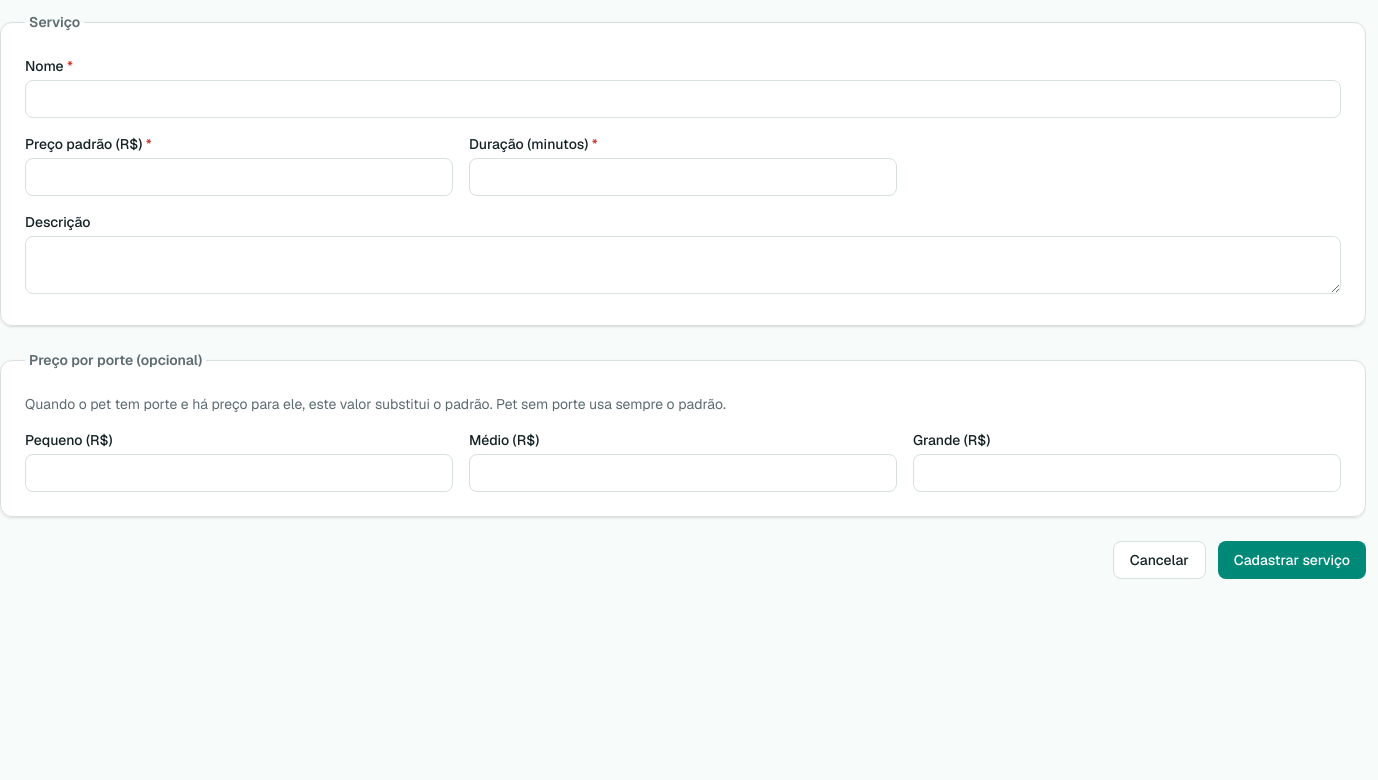
Scenario: ServicoForm › validaDuracao
Step 1. Type "Tosa Higiênica" into the field labelled "Nome *" → (683, 99), box [25, 80, 1341, 118]
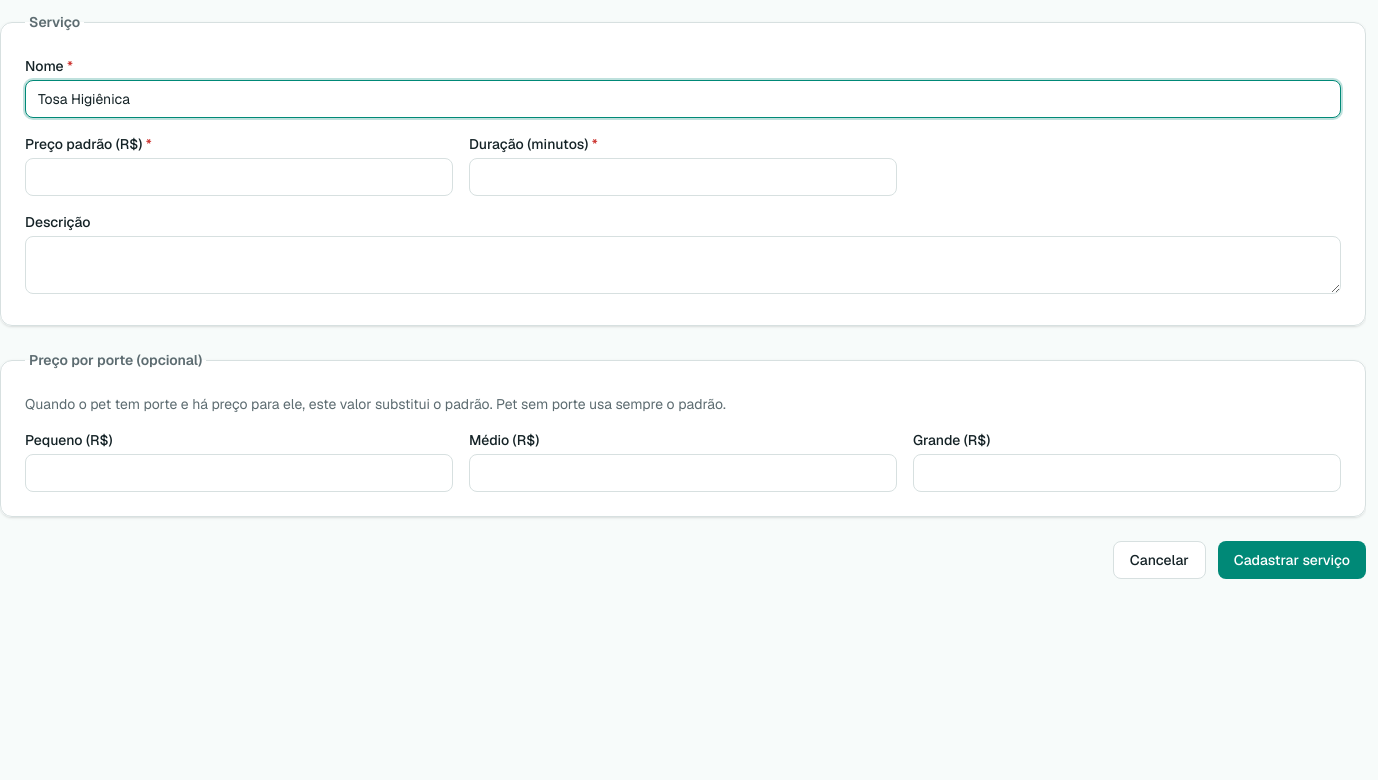
Step 2. Type "50" into the field labelled "Preço padrão (R$) *" → (239, 177), box [25, 158, 453, 196]
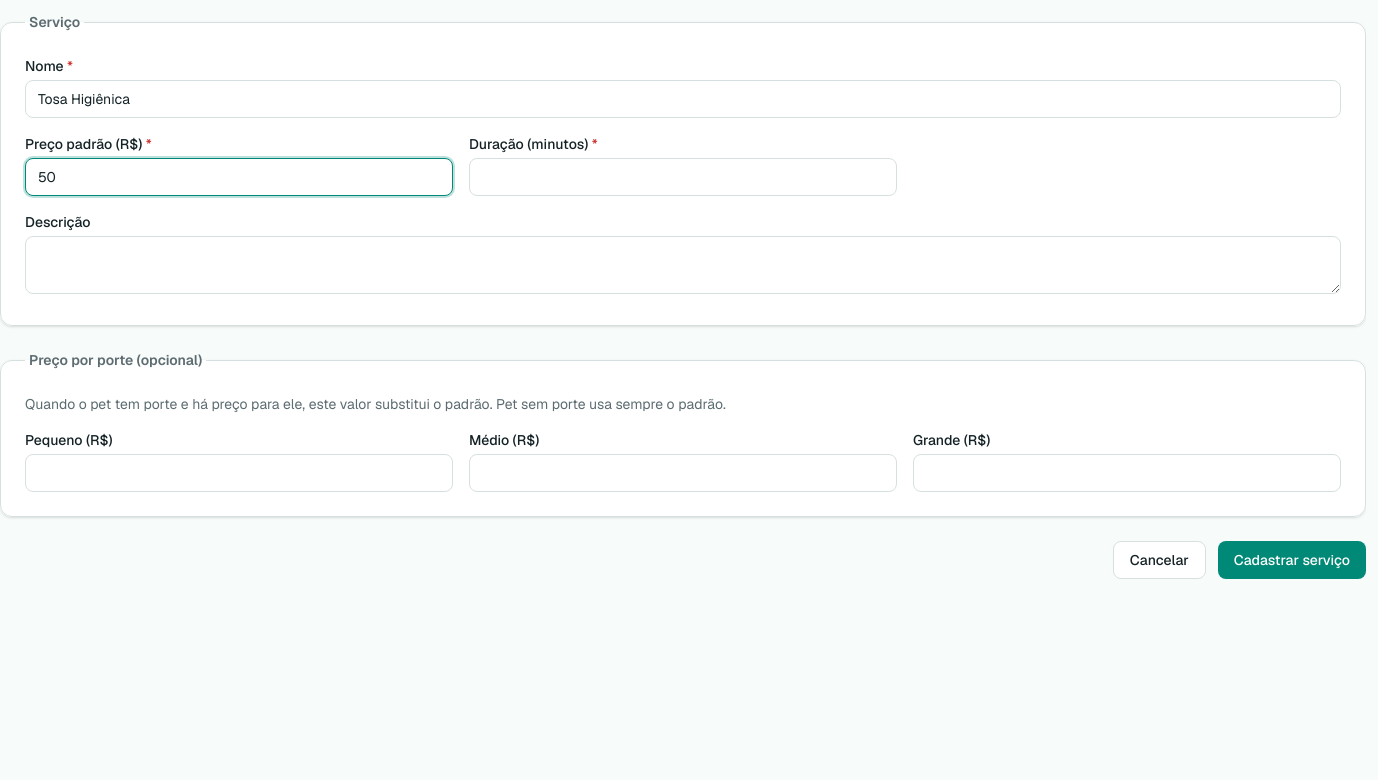
Step 3. Type "2" into the field labelled "Duração (minutos) *" → (683, 177), box [469, 158, 897, 196]
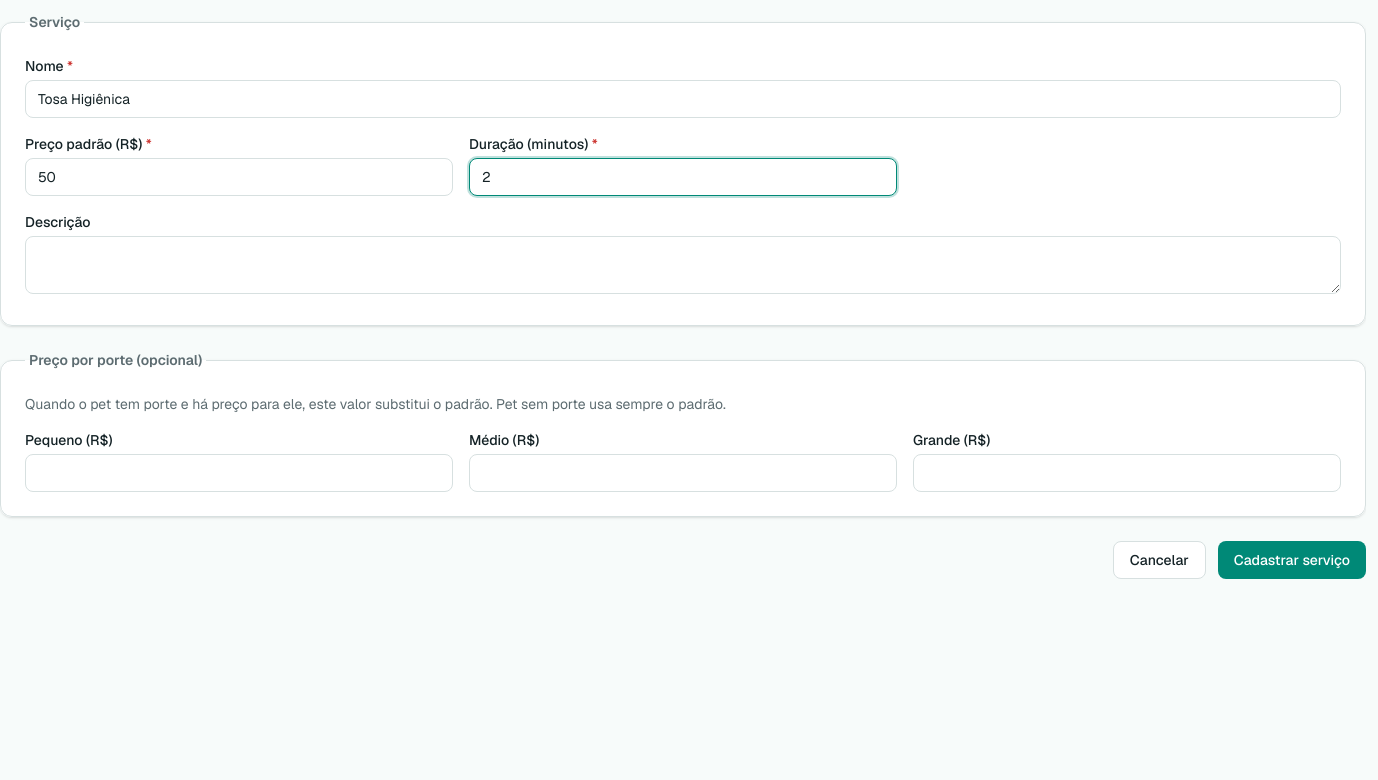
Step 4. Click the button "Cadastrar serviço" → (1292, 560), box [1218, 541, 1366, 579]
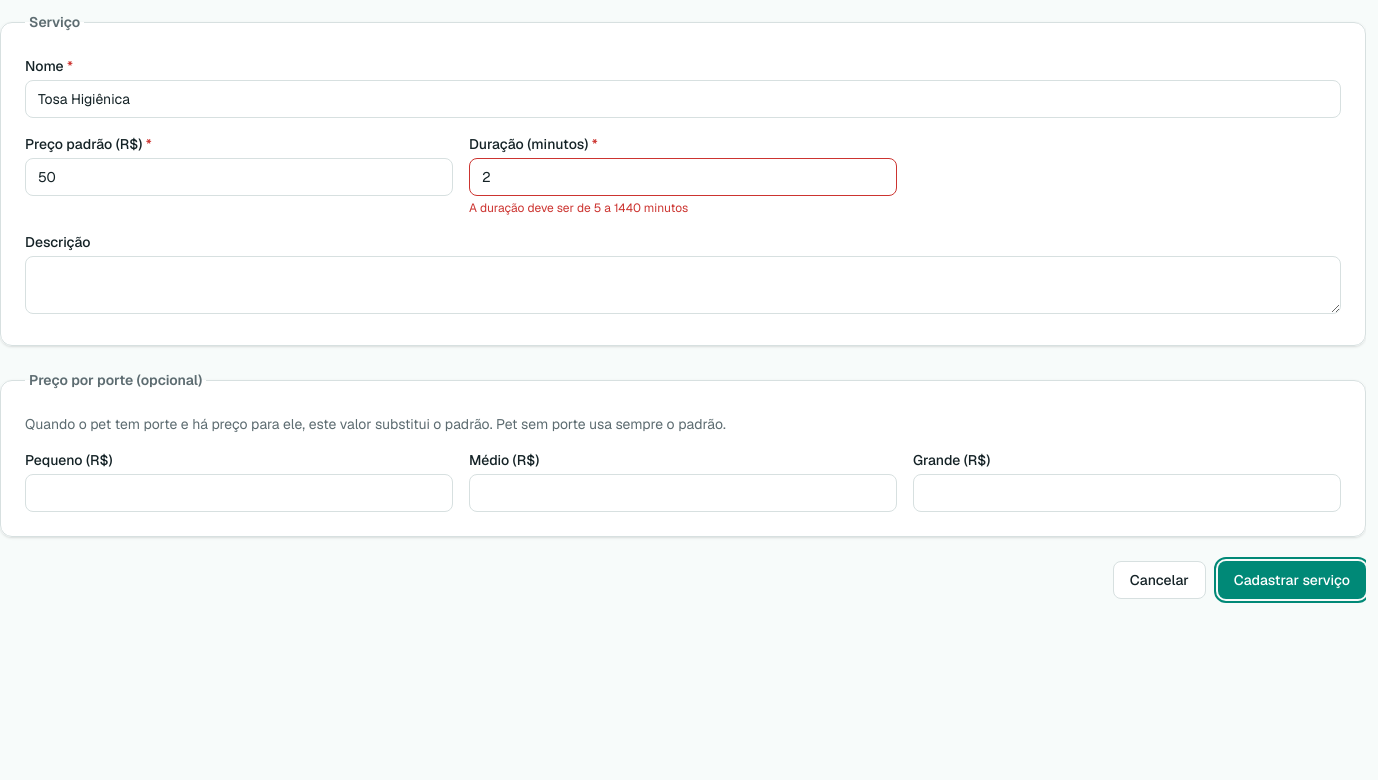
Now the text "A duração deve ser de 5 a 1440 minutos" is shown, box [469, 200, 688, 216]
